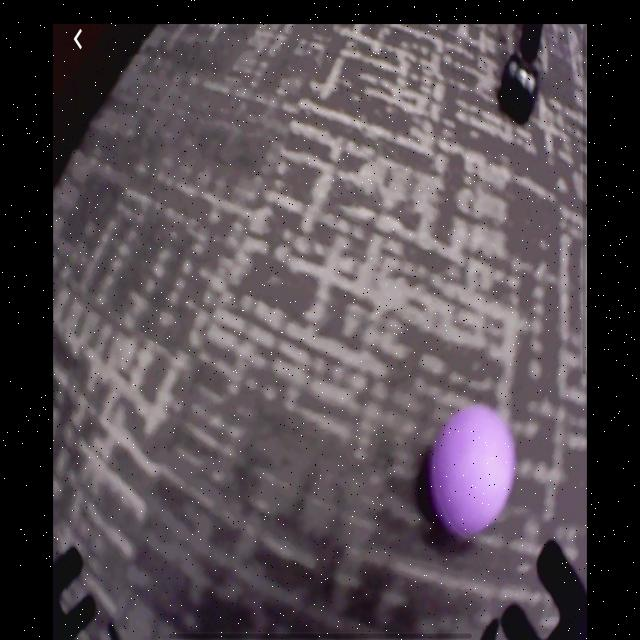ball: (430, 404, 518, 545)
